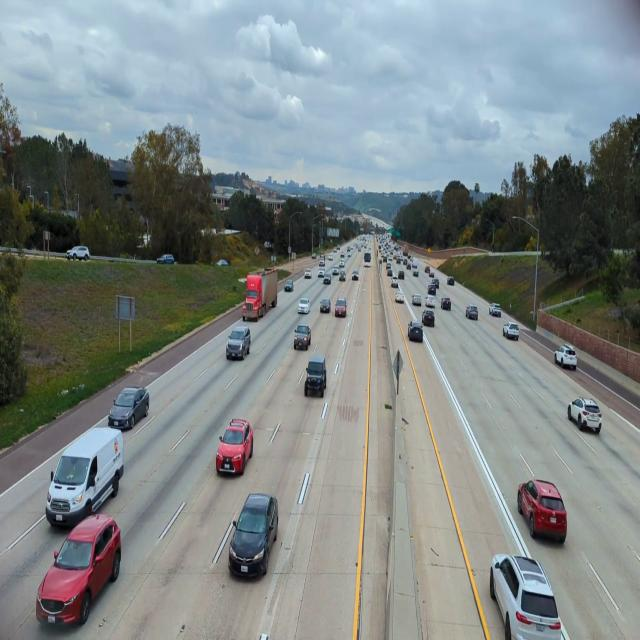car: (36, 514, 122, 622), (46, 426, 124, 518), (491, 549, 561, 640), (227, 494, 281, 576), (517, 479, 567, 544), (216, 417, 255, 476), (106, 390, 149, 426), (569, 395, 602, 437), (226, 327, 252, 360), (305, 354, 327, 393), (553, 345, 576, 370), (294, 326, 312, 350), (66, 245, 89, 260), (408, 323, 422, 343), (503, 324, 519, 341), (335, 297, 347, 317), (422, 309, 434, 326), (157, 255, 175, 266), (467, 305, 480, 320), (298, 299, 310, 314), (488, 305, 501, 317), (333, 267, 345, 280), (319, 299, 330, 313), (441, 298, 452, 310), (412, 295, 422, 307), (285, 282, 295, 294), (322, 272, 332, 284), (364, 250, 371, 267), (396, 294, 406, 304), (304, 270, 314, 280), (351, 270, 359, 280), (318, 268, 325, 276)
truck: (244, 272, 279, 320)
